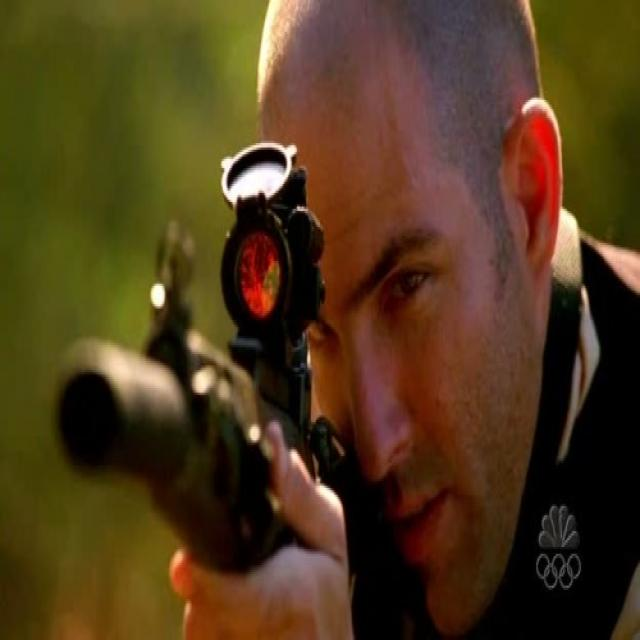rifle: (48, 121, 354, 563)
